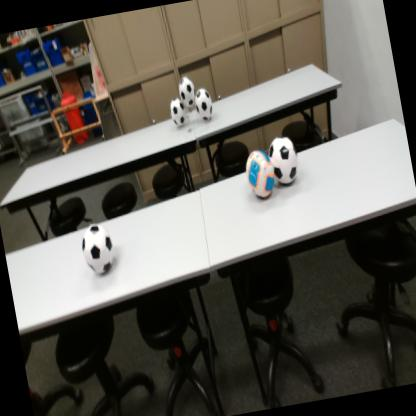ball: (77, 221, 118, 278), (243, 146, 278, 202), (242, 146, 278, 200), (268, 134, 302, 186), (193, 86, 215, 122), (176, 74, 198, 108), (168, 98, 186, 127)
